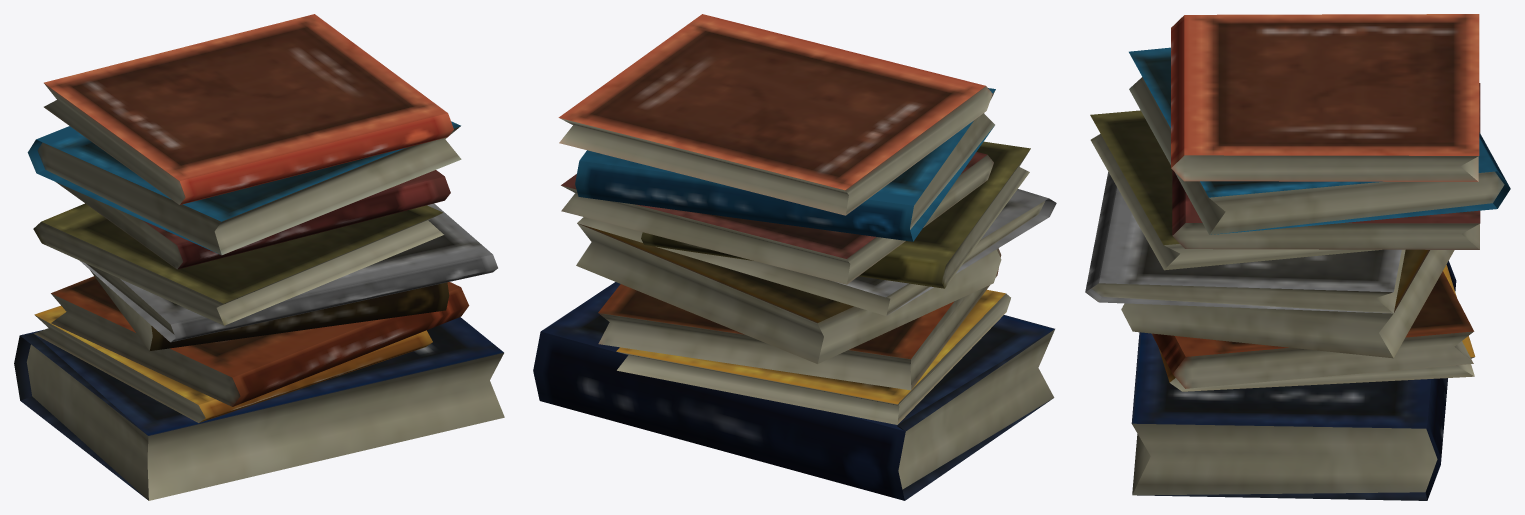
The model's file is M_Home_Garden_Book_Collection_01.fbx.
3 views of the same model, side by side, from view 1: azimuth 30°, elevation 25°; view 2: azimuth 150°, elevation 25°; view 3: azimuth 270°, elevation 25° (orthographic). The views are drawn at different scales.
Visible parts, largest first — view 1: M_Home_Garden_Book_Collection_01; view 2: M_Home_Garden_Book_Collection_01; view 3: M_Home_Garden_Book_Collection_01.
Boxes of the visible parts, x1=… form: M_Home_Garden_Book_Collection_01: x1=14, y1=14, x2=504, y2=500; M_Home_Garden_Book_Collection_01: x1=533, y1=14, x2=1056, y2=500; M_Home_Garden_Book_Collection_01: x1=1085, y1=14, x2=1510, y2=500.
Size of the model in its own units: 41.98 by 32.98 by 38.95.
